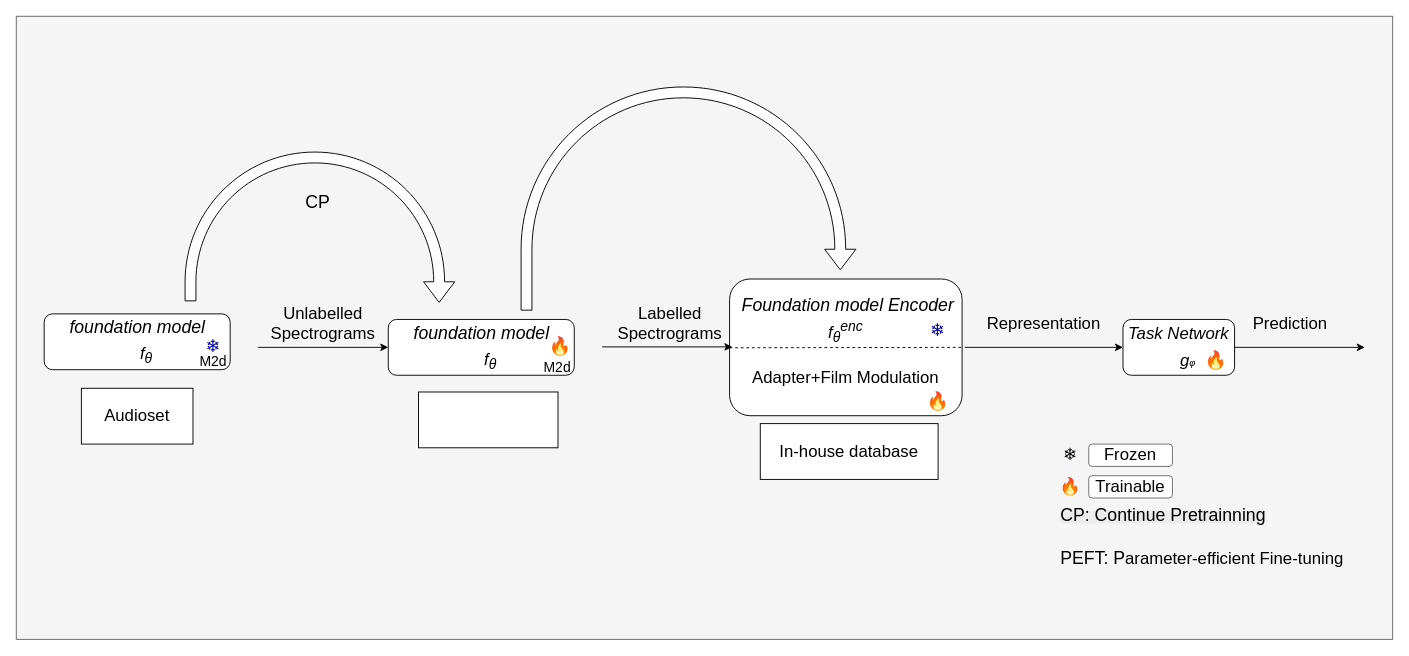
Some shapes in this 1409 by 656 pixel diagram are drawn without their labels. Each missing label, with the centre of its shape:
"Cough corpora" belongs at [488,419].
"PEFT" belongs at [688,198].
